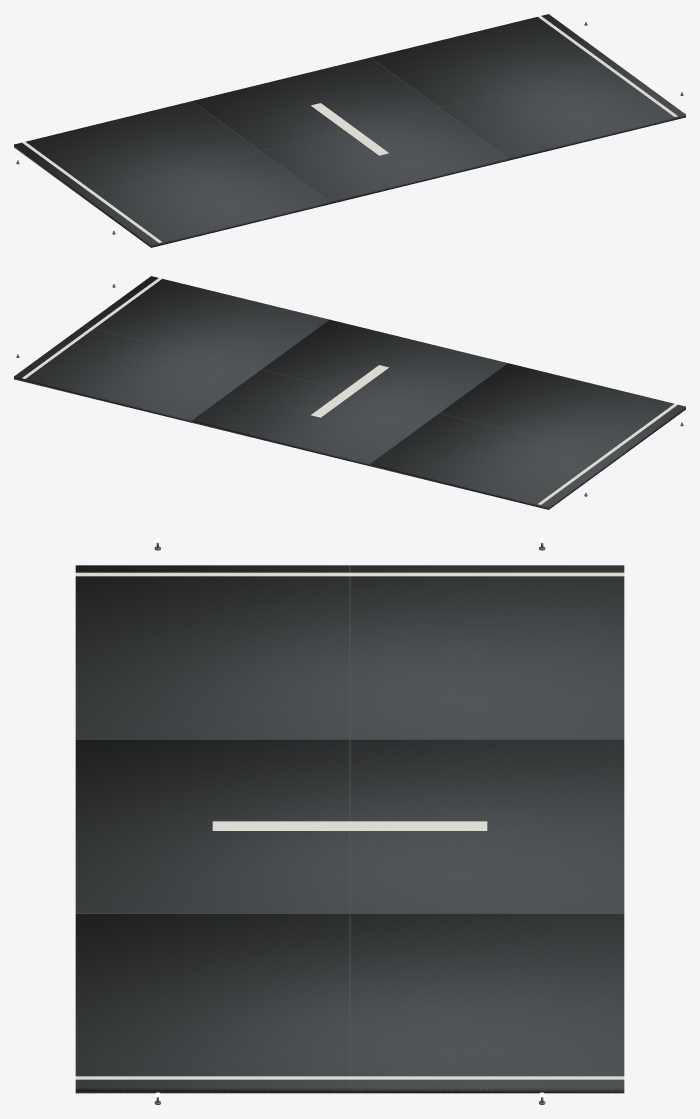
The model's file is PZ_Runway_Straight_45x20m.glb.
3 views of the same model, one above another, from view 1: azimuth 30°, elevation 25°; view 2: azimuth 150°, elevation 25°; view 3: azimuth 270°, elevation 25° (orthographic). The views are drawn at different scales.
Parts seen in each view (by area): view 1: RWY_AsphaltLane_1, RWY_AsphaltLane_3, RWY_AsphaltLane_2, RWY_Centerline_White_Dash, RWY_EdgeWhite_-1, RWY_EdgeWhite_1, RWY_ExpansionJoint_Cross_0; view 2: RWY_AsphaltLane_1, RWY_AsphaltLane_3, RWY_AsphaltLane_2, RWY_Centerline_White_Dash, RWY_EdgeWhite_-1, RWY_EdgeWhite_1, RWY_ExpansionJoint_Cross_0; view 3: RWY_AsphaltLane_3, RWY_AsphaltLane_1, RWY_AsphaltLane_2, RWY_Centerline_White_Dash, RWY_EdgeWhite_-1, RWY_EdgeWhite_1, RWY_ExpansionJoint_Cross_0.
Part boxes in pixels (x1,y1,x2,y2): RWY_AsphaltLane_1: (14,101,329,247); RWY_AsphaltLane_3: (371,14,685,160); RWY_AsphaltLane_2: (193,57,507,204); RWY_Centerline_White_Dash: (311,103,388,155); RWY_EdgeWhite_-1: (22,141,161,242); RWY_EdgeWhite_1: (538,16,677,116); RWY_ExpansionJoint_Cross_0: (83,64,616,194); RWY_AsphaltLane_1: (370,363,685,509); RWY_AsphaltLane_3: (14,276,328,422); RWY_AsphaltLane_2: (192,319,506,466); RWY_Centerline_White_Dash: (311,365,388,417); RWY_EdgeWhite_-1: (538,403,677,504); RWY_EdgeWhite_1: (22,278,161,378); RWY_ExpansionJoint_Cross_0: (83,326,616,456); RWY_AsphaltLane_3: (75,913,624,1093); RWY_AsphaltLane_1: (75,565,624,739); RWY_AsphaltLane_2: (75,739,624,912); RWY_Centerline_White_Dash: (212,821,487,830); RWY_EdgeWhite_-1: (75,572,624,576); RWY_EdgeWhite_1: (75,1076,624,1079); RWY_ExpansionJoint_Cross_0: (349,565,350,1086).
Bounding box in the file's own units: 48.03 × 0.65 × 20.
5 materials, 3 textured.
